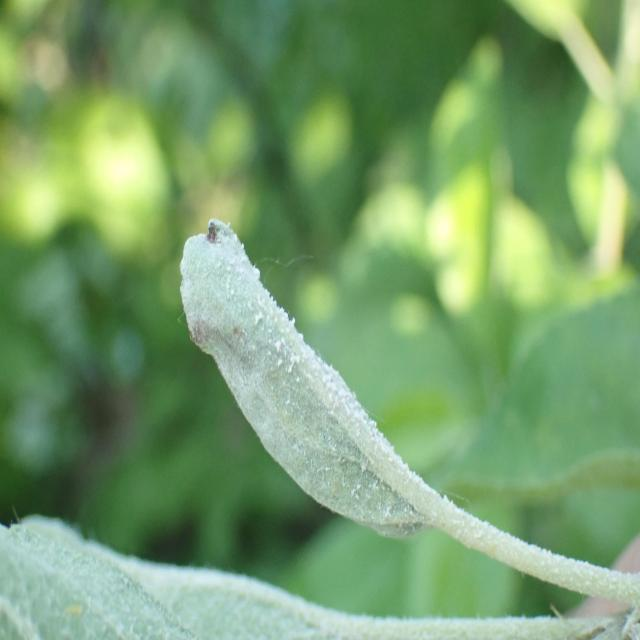Powdery_mildew: (176, 214, 482, 559), (0, 491, 590, 639)
